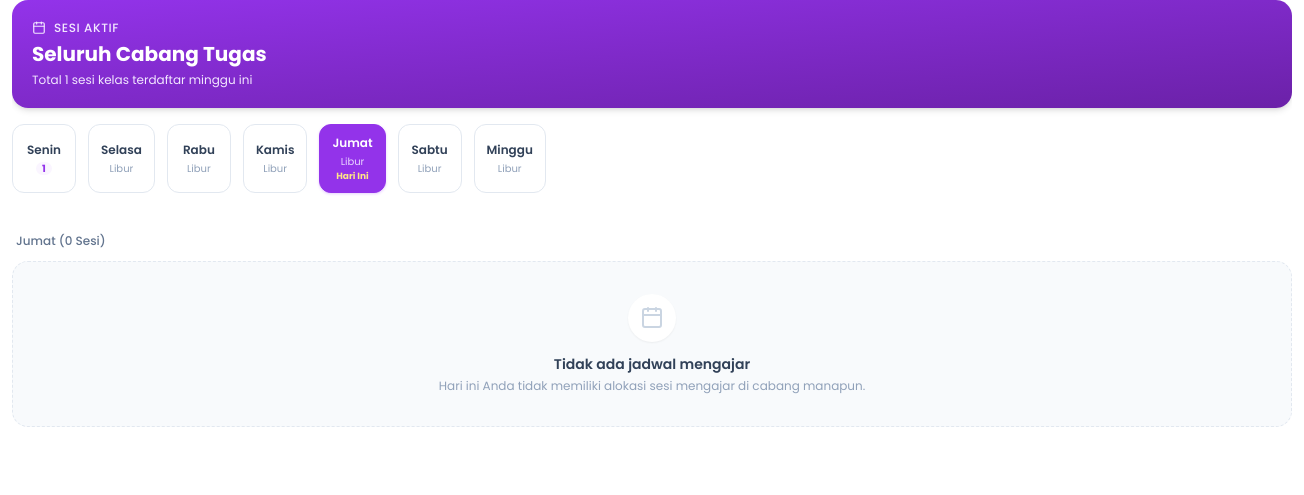
it: TeacherScheduleClient Overdue SPP indicators › renders a pill badge on the class header when students have overdue SPP
The width and height of the screenshot is (1304, 495).
Click the button "Senin 1" at (44, 159), box 12,124 -> 76,193
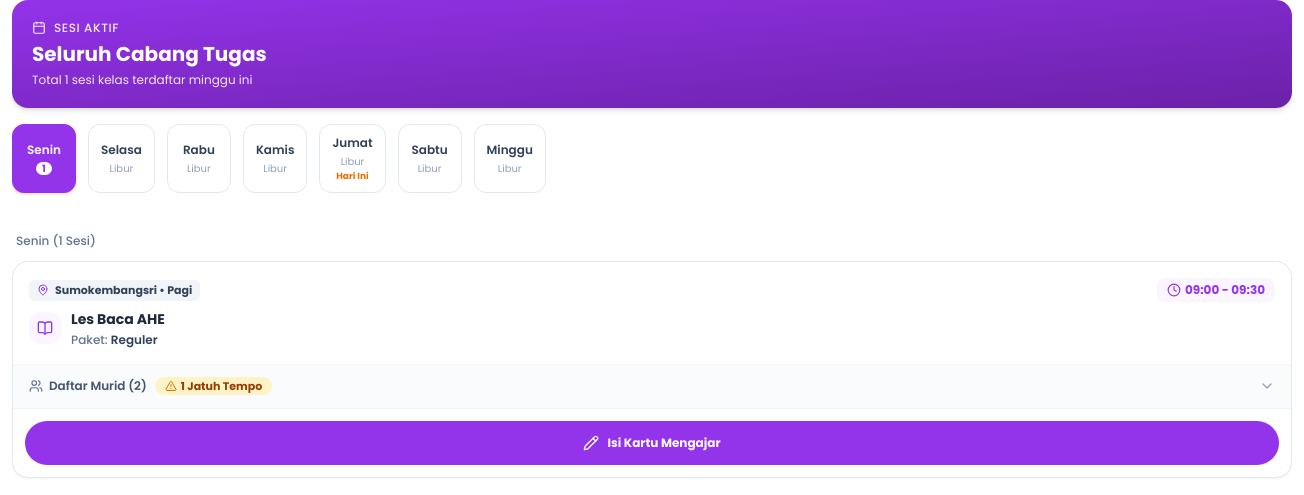
Result: the text "1 Jatuh Tempo" is shown at 155,377 -> 272,396
